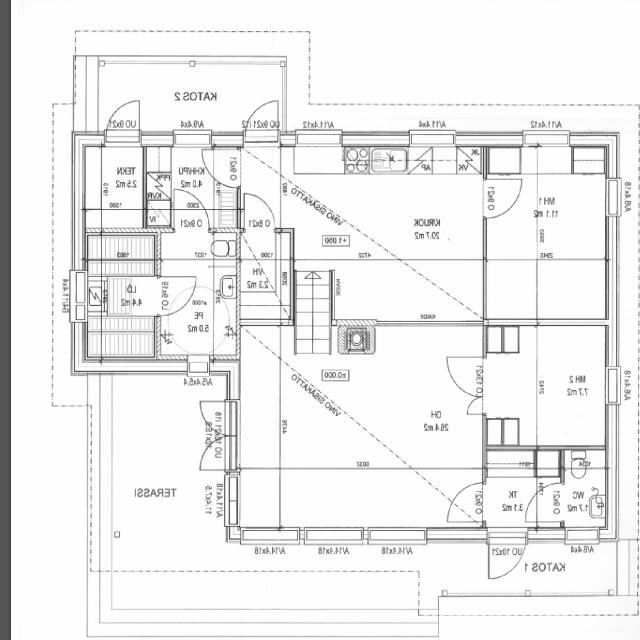door: (489, 527, 526, 583), (106, 95, 140, 146), (245, 95, 278, 146), (196, 436, 241, 471), (196, 402, 241, 436), (483, 179, 522, 218), (448, 357, 487, 396), (156, 277, 196, 315), (175, 189, 209, 233), (202, 149, 240, 188), (449, 484, 487, 522), (527, 484, 565, 521), (244, 194, 276, 233), (467, 396, 487, 414)
